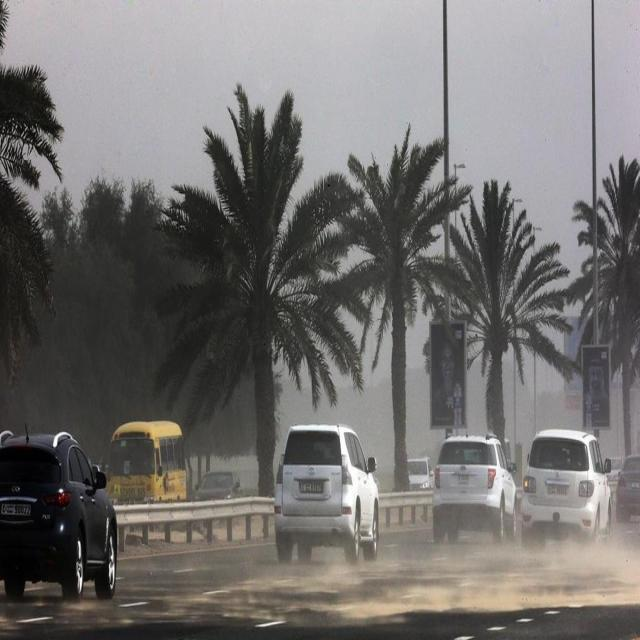Bus: (105, 420, 190, 500)
Car: (0, 426, 119, 601), (272, 422, 380, 566), (524, 429, 612, 552), (431, 431, 518, 545), (616, 455, 640, 523), (193, 470, 244, 500)
